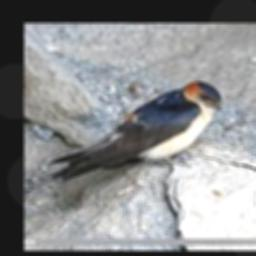Swallow: (24, 82, 223, 193)
